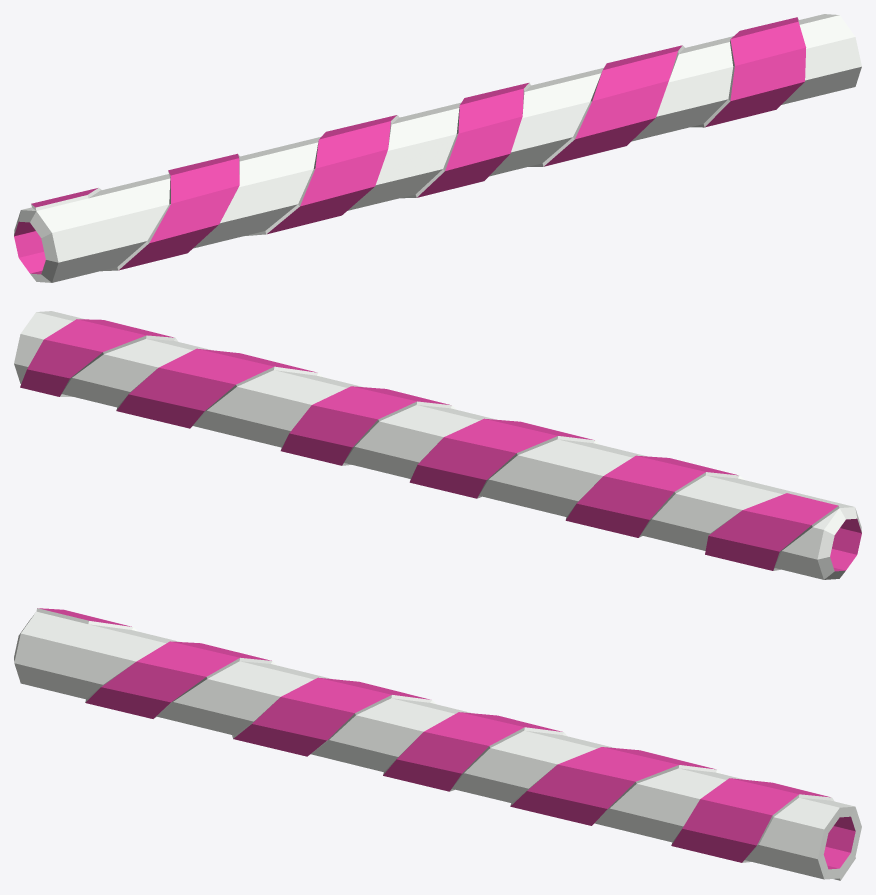
File: stick-o strawberry.fbx
3 views of the same model, one above another, from view 1: azimuth 30°, elevation 25°; view 2: azimuth 150°, elevation 25°; view 3: azimuth 330°, elevation 25° (orthographic).
Visible parts, largest first — view 1: Cylinder.001; view 2: Cylinder.001; view 3: Cylinder.001.
Part boxes in pixels (<box>): Cylinder.001: <box>14,14,861,282</box>; Cylinder.001: <box>14,311,861,579</box>; Cylinder.001: <box>14,608,861,880</box>.
Bounding box in the file's own units: 3.65 × 0.3326 × 0.3776.
